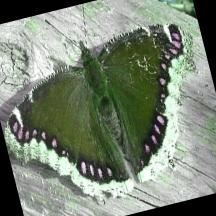butterfly: (6, 24, 194, 201)
